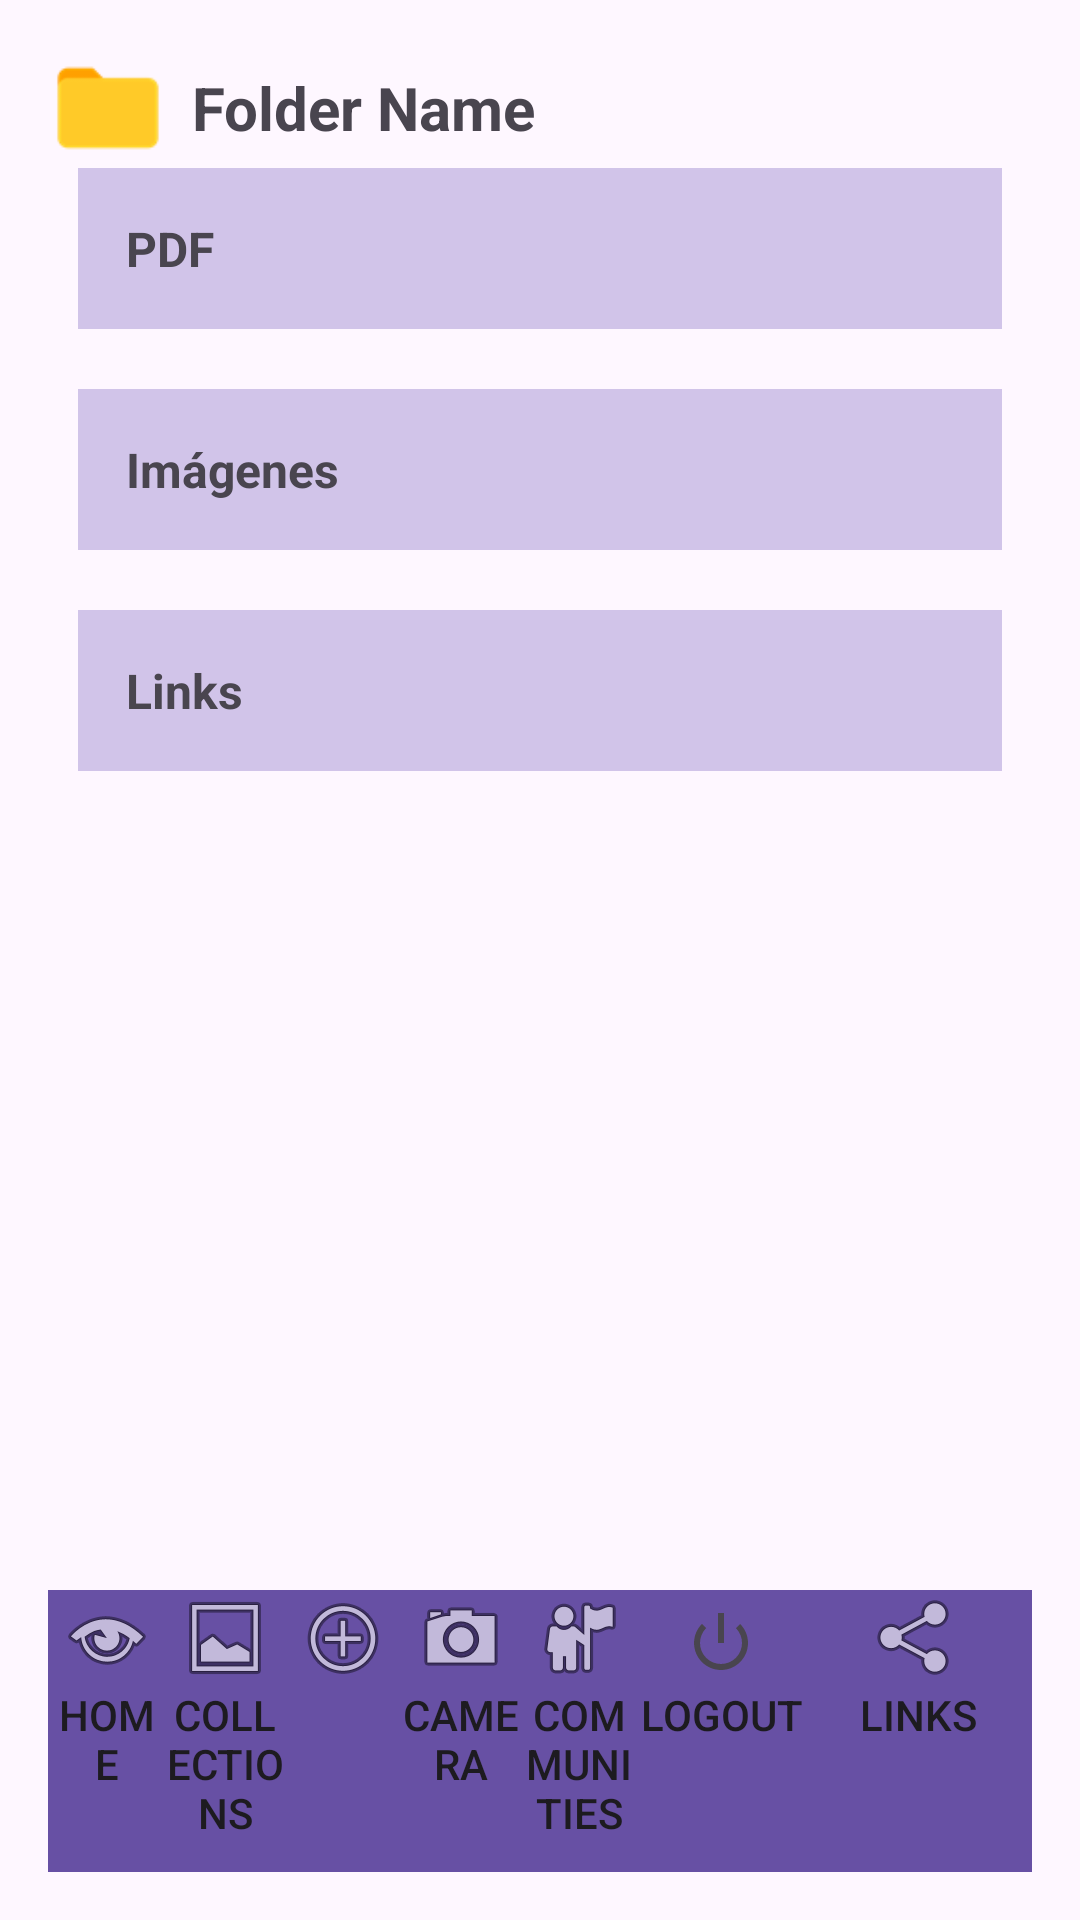

Point at icon controls on the screen. Image size 1080x1920, points as [x,y].
carpeta: [108,108]
